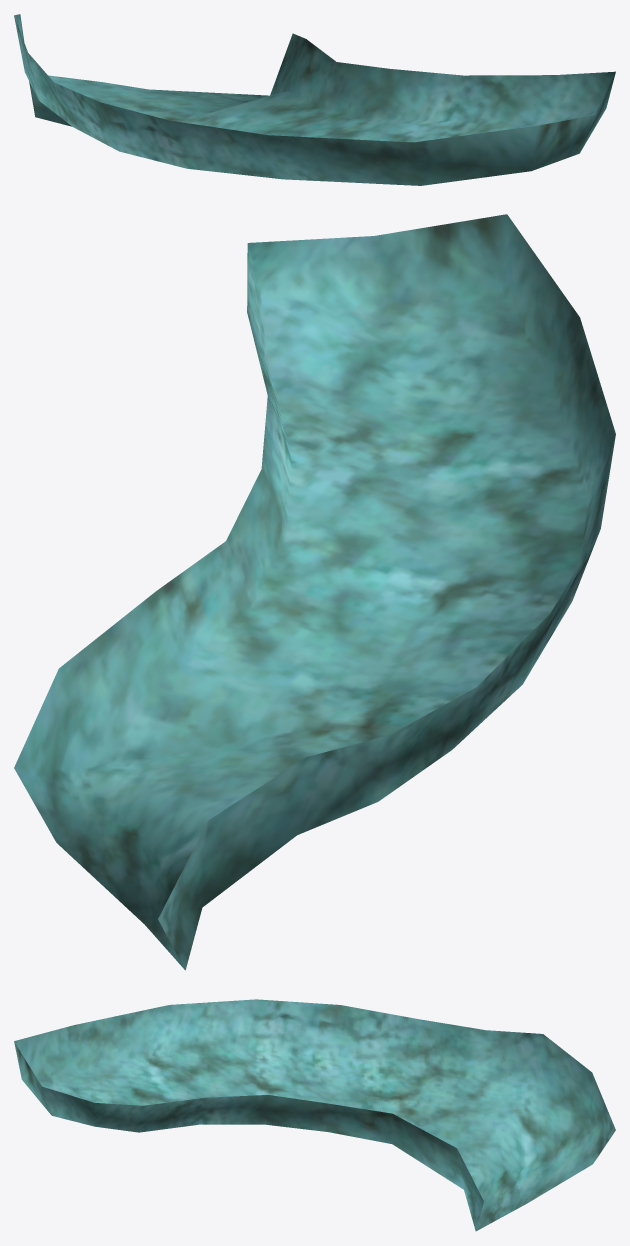
File: EKH_BARRELROOM_PS_JA1_RIVER_BOTTOM74645.fbx
3 renders of one model, top to bottom at view 1: azimuth 30°, elevation 25°; view 2: azimuth 150°, elevation 25°; view 3: azimuth 270°, elevation 25°, orthographic. The views are drawn at different scales.
Parts seen in each view (by area): view 1: EKH_BARRELROOM_PS_JA1_RIVER_BOTTOM74645; view 2: EKH_BARRELROOM_PS_JA1_RIVER_BOTTOM74645; view 3: EKH_BARRELROOM_PS_JA1_RIVER_BOTTOM74645.
Boxes of the visible parts, left/top/right/bottom form: EKH_BARRELROOM_PS_JA1_RIVER_BOTTOM74645: left=14, top=14, right=615, bottom=185; EKH_BARRELROOM_PS_JA1_RIVER_BOTTOM74645: left=14, top=214, right=615, bottom=970; EKH_BARRELROOM_PS_JA1_RIVER_BOTTOM74645: left=14, top=999, right=615, bottom=1231.
Bounding box in the file's own units: 53874 × 33769 × 96908.
Materials: 1 (1 with a texture image).
